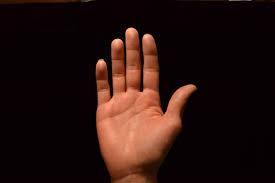palm: (95, 93, 174, 161)
